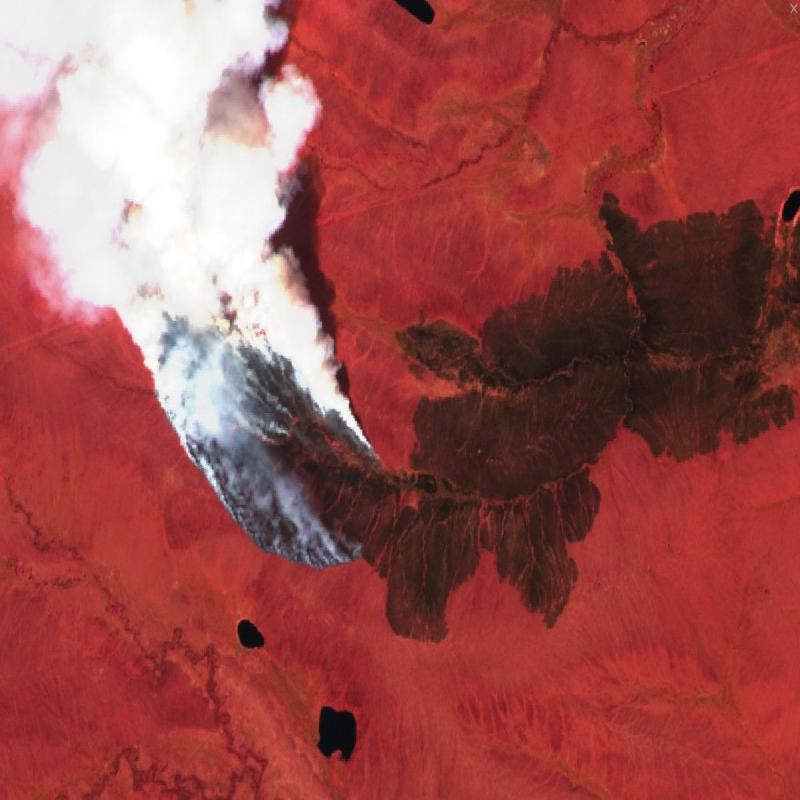fire: (107, 204, 382, 578)
